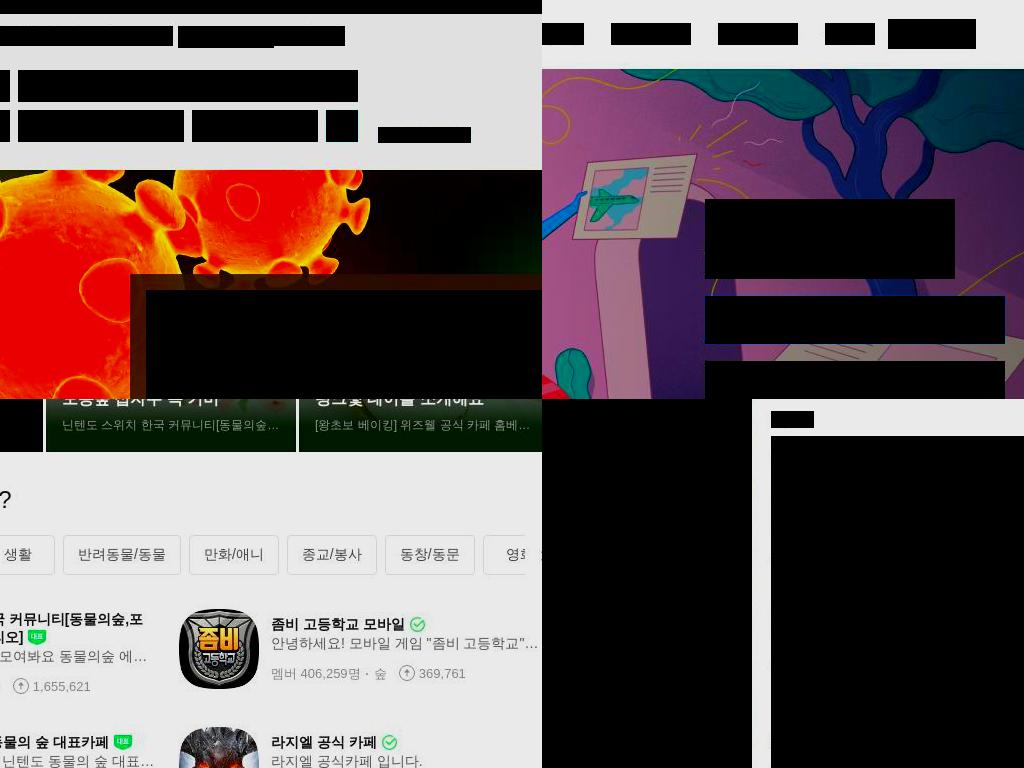button: (771, 436, 1024, 768), (542, 399, 752, 768), (179, 609, 542, 689), (179, 727, 542, 768), (705, 296, 1005, 344), (0, 609, 163, 697), (46, 399, 296, 452), (299, 399, 542, 452), (705, 361, 1005, 399), (0, 727, 163, 768), (63, 535, 181, 575), (188, 535, 279, 575), (286, 535, 377, 575), (384, 535, 475, 575), (888, 19, 976, 49), (482, 535, 542, 575), (0, 535, 55, 575), (611, 23, 691, 45), (718, 23, 798, 45), (825, 23, 875, 45), (326, 110, 358, 142), (542, 23, 584, 45), (525, 531, 542, 580)
field: (18, 70, 358, 102), (18, 110, 184, 142), (192, 110, 318, 142)
heading: (771, 436, 1024, 696), (705, 199, 955, 279), (0, 484, 542, 516), (0, 26, 173, 46), (178, 26, 274, 48), (274, 26, 345, 46)
image: (46, 399, 296, 452), (299, 399, 542, 452), (179, 609, 259, 689), (179, 727, 259, 768), (726, 308, 750, 333), (333, 114, 352, 138)
link: (771, 726, 1024, 768), (0, 611, 143, 645), (271, 635, 541, 653), (62, 417, 280, 434), (315, 417, 533, 434), (0, 648, 155, 666), (0, 753, 155, 768), (271, 753, 423, 768), (271, 616, 405, 632), (0, 734, 109, 750), (271, 734, 377, 750), (771, 411, 814, 428), (28, 628, 47, 646), (113, 733, 132, 751), (409, 615, 425, 633), (381, 733, 397, 751)
text: (542, 399, 752, 768), (146, 290, 542, 362), (146, 362, 542, 399), (783, 308, 928, 332), (789, 373, 921, 397), (62, 399, 280, 410), (315, 399, 533, 410), (271, 664, 361, 684), (378, 127, 471, 143), (32, 679, 91, 694), (418, 666, 466, 681), (372, 664, 388, 684)
